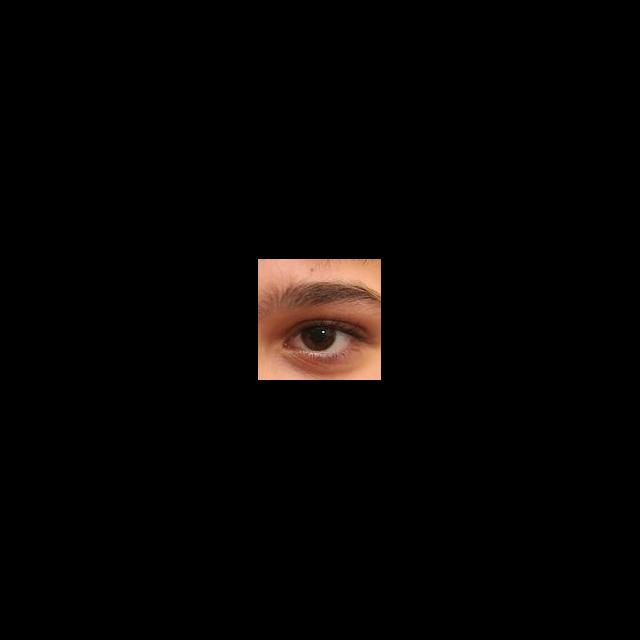eye: (290, 327, 357, 354)
iris: (302, 327, 337, 351)
